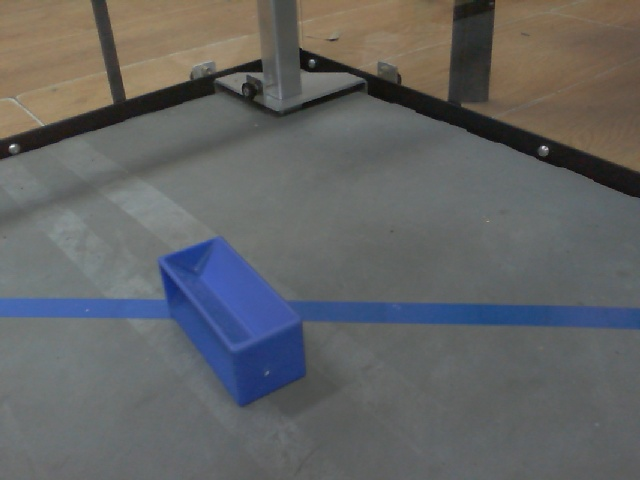BlueSample: (156, 232, 311, 413)
